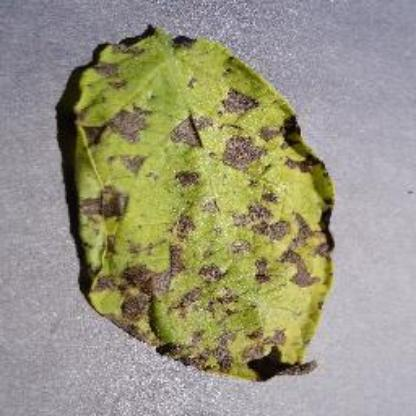Early-Blight: (58, 18, 346, 388)
